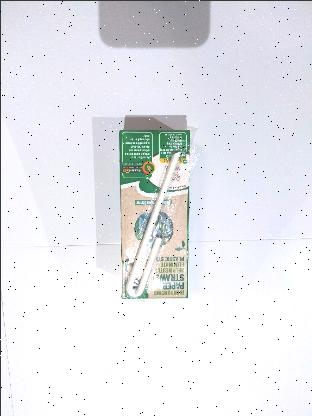Others: (116, 127, 194, 301)
